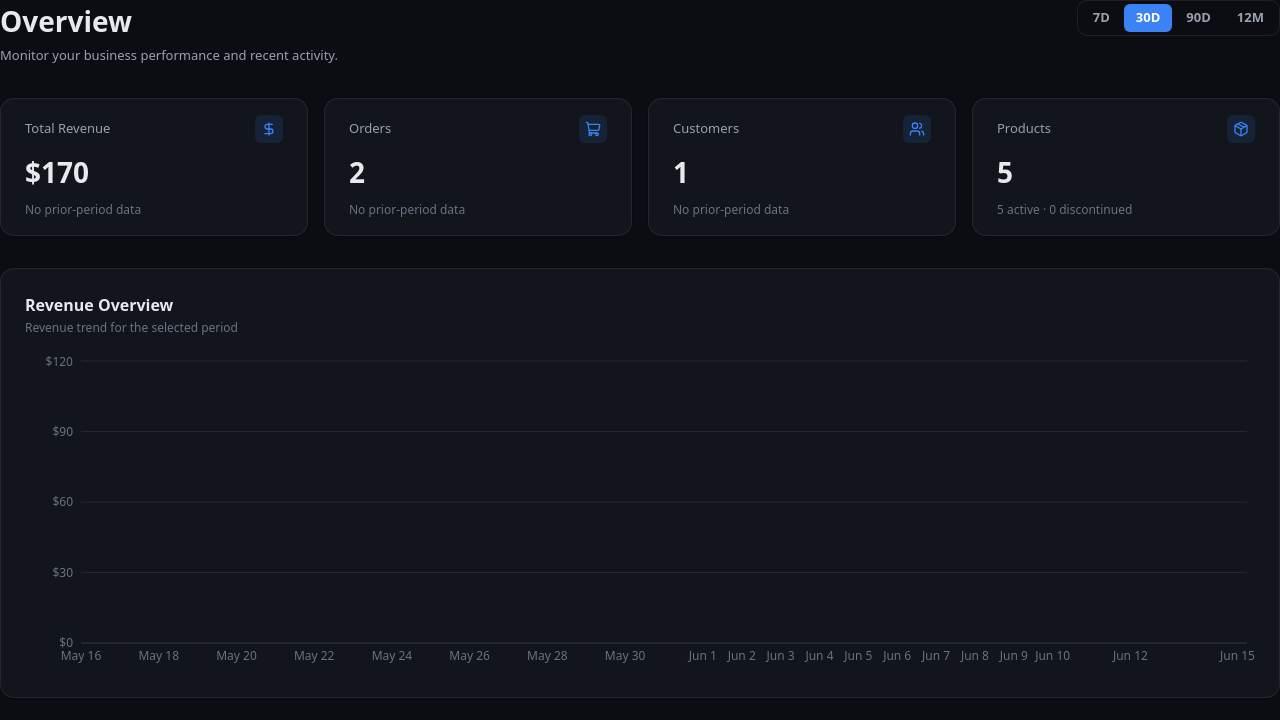
Overview Top Products follows the selected range › shows revenue, units and product links as before, for the selected window
Click the button "90D" at {"x": 1199, "y": 18}, box [1174,4,1223,32]
(page scrolled)
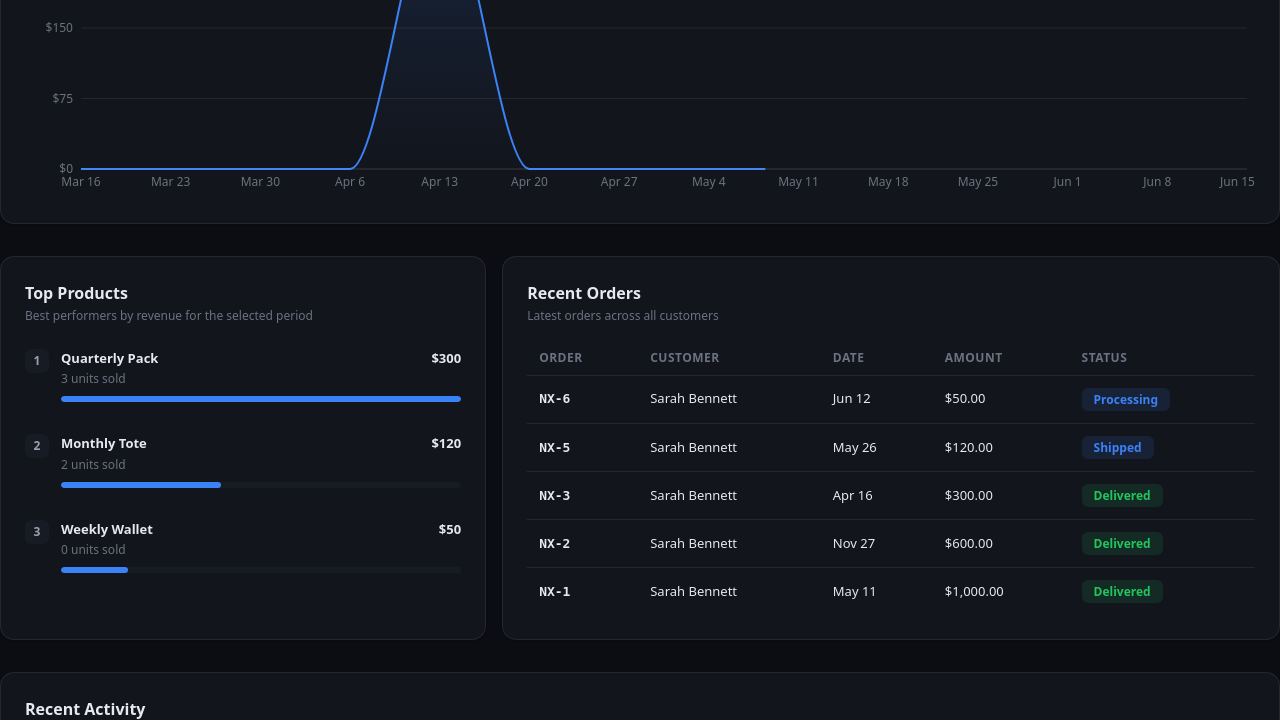
Expected: the text "1" is shown, [25,348,49,372]
Expected: the text "$300" is shown, [431,348,461,368]
Expected: the text "3 units sold" is shown, [61,370,126,387]
